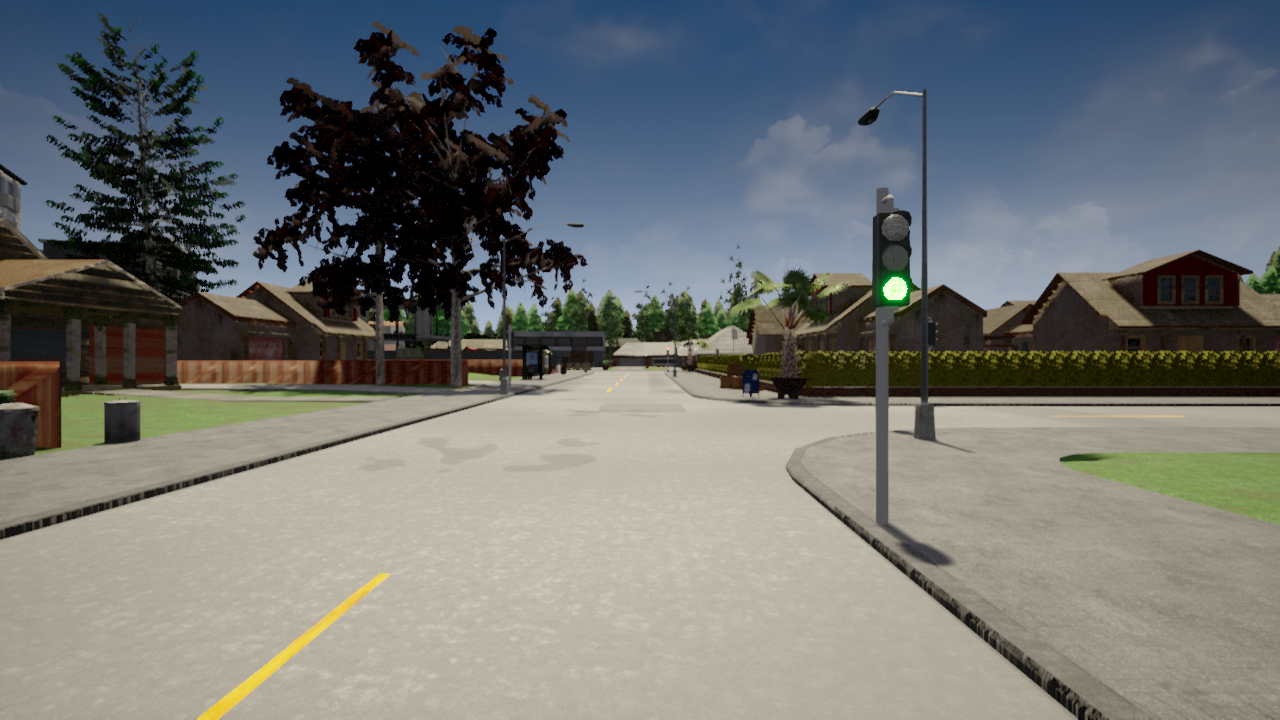green: (870, 209, 913, 306)
